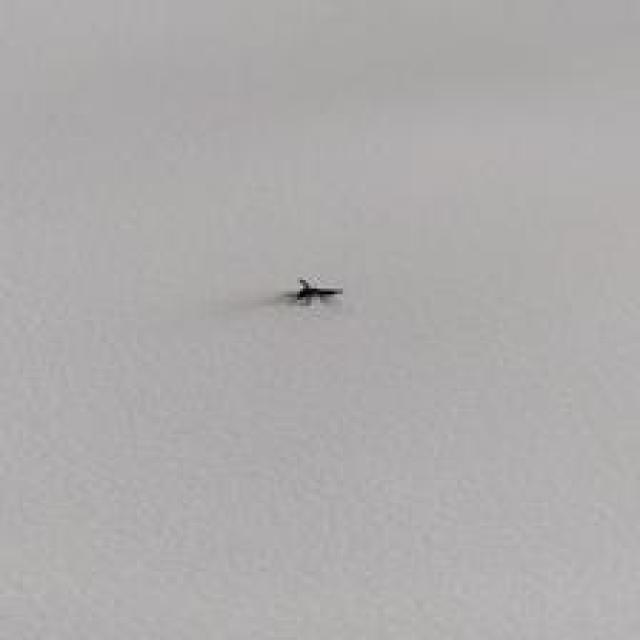Aedes albopictus: (286, 276, 343, 304)
